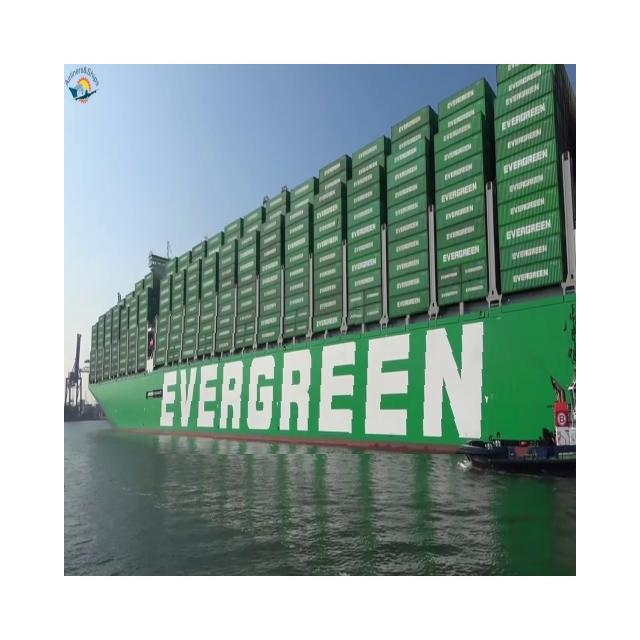OCR: (153, 307, 501, 454)
